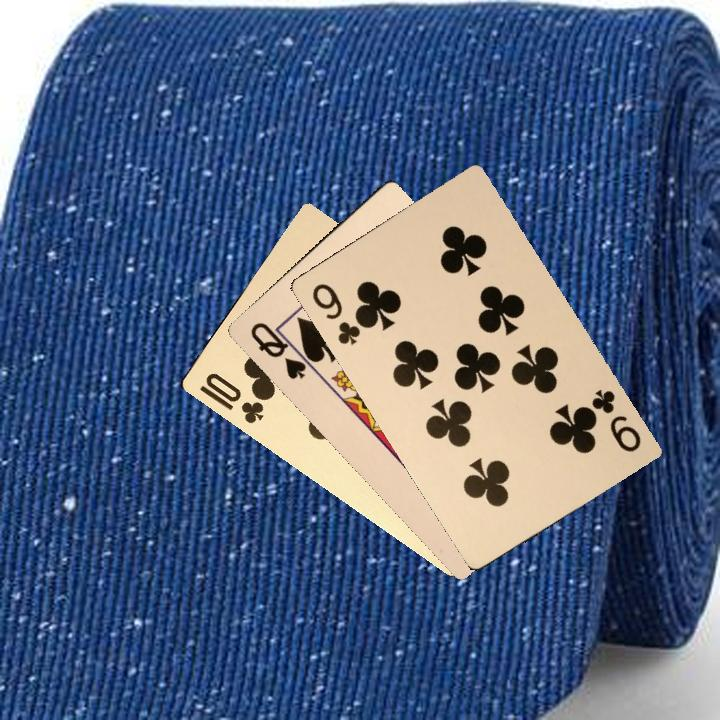10c: (195, 368, 270, 427)
9c: (307, 279, 366, 348), (587, 385, 644, 455)
Qs: (246, 318, 318, 382)
